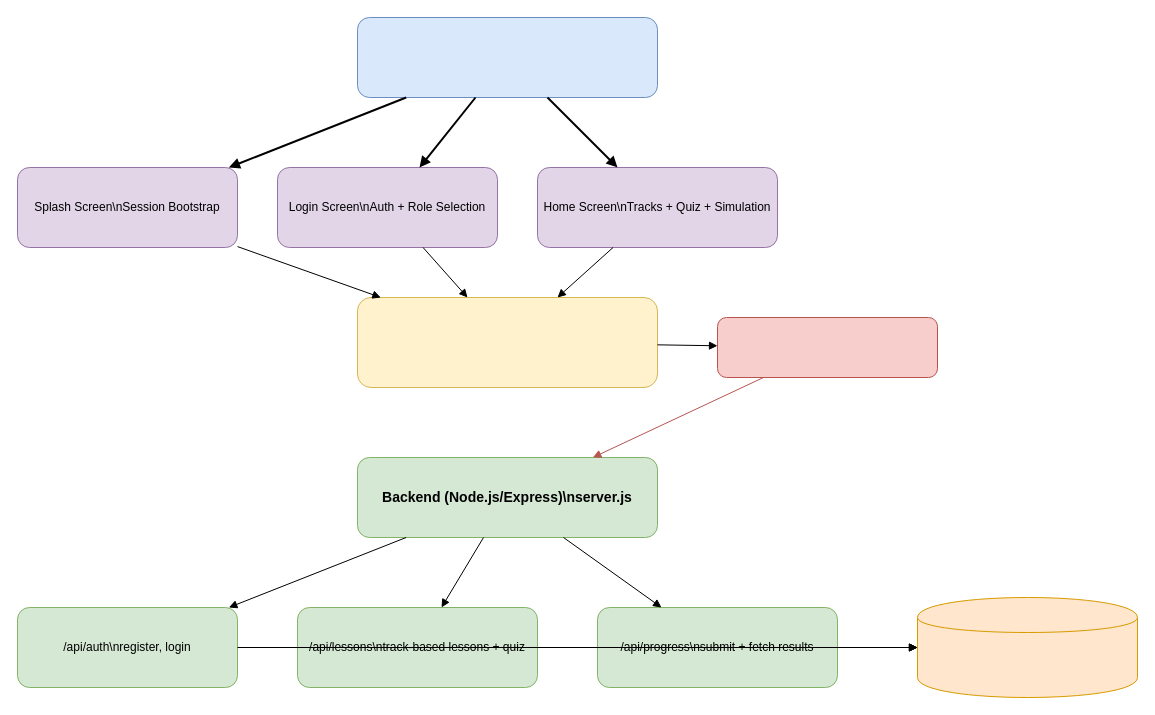
The diagram is 1155 pixels wide and 715 high, and some of its shapes have lost their labels. Each missing label, with the box of its shape:
API Config\n10.0.2.2:3000/api: (716, 316, 938, 378)
In-Memory Data\nUsers, Lessons, Progress: (916, 596, 1138, 698)
Mobile App (React Native)\nApp.js + Navigation: (356, 16, 658, 98)
Redux Store\nAuth / Lessons / Progress: (356, 296, 658, 388)
